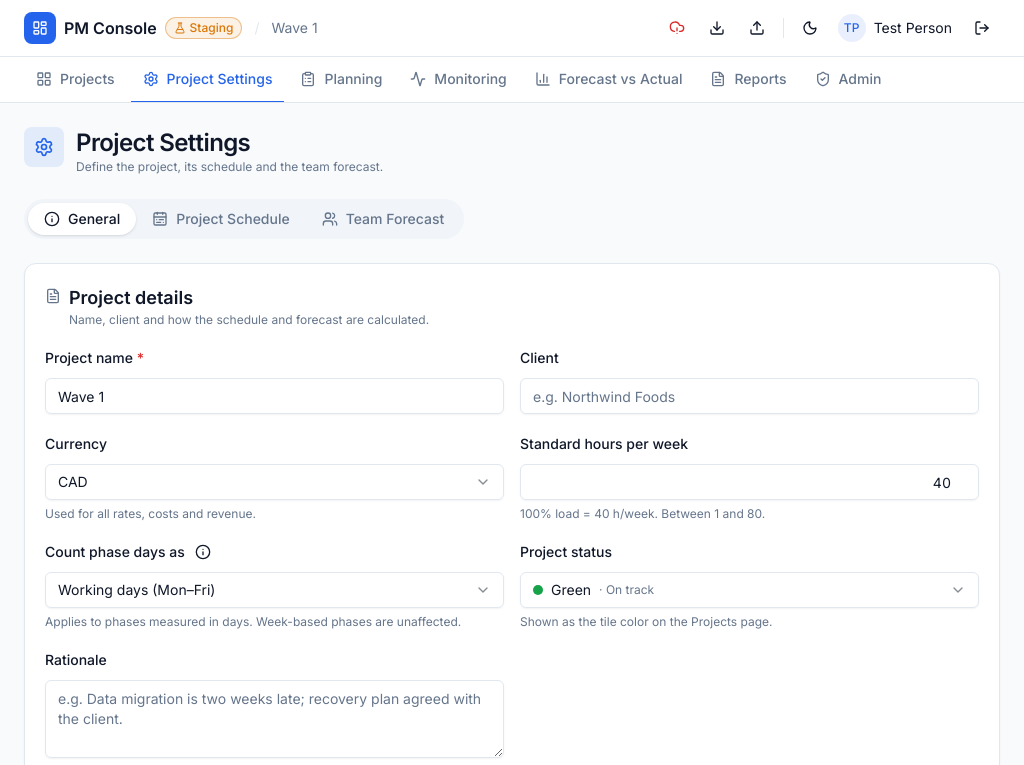
Scenario: Unsaved project details › asks before leaving, and Keep editing stays with the edits
Type "Northwind" into the field labelled "Client" at x=750, y=396, box [520,378,979,414]
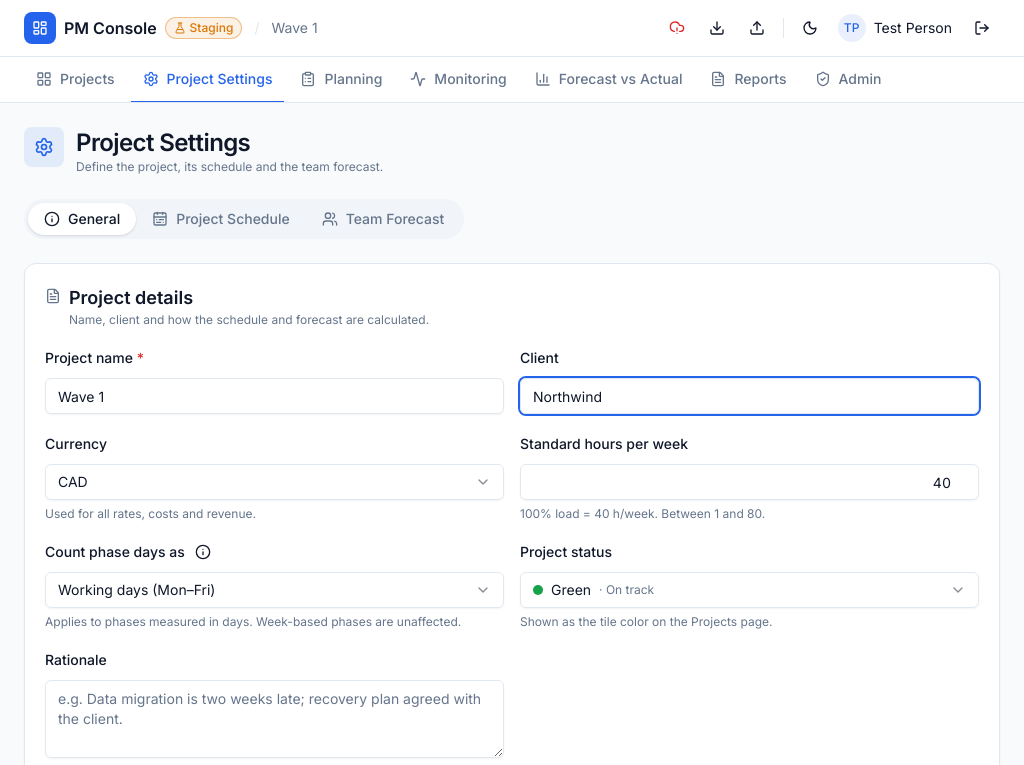
Click the link "Projects" at x=75, y=78, box [36,70,115,87]
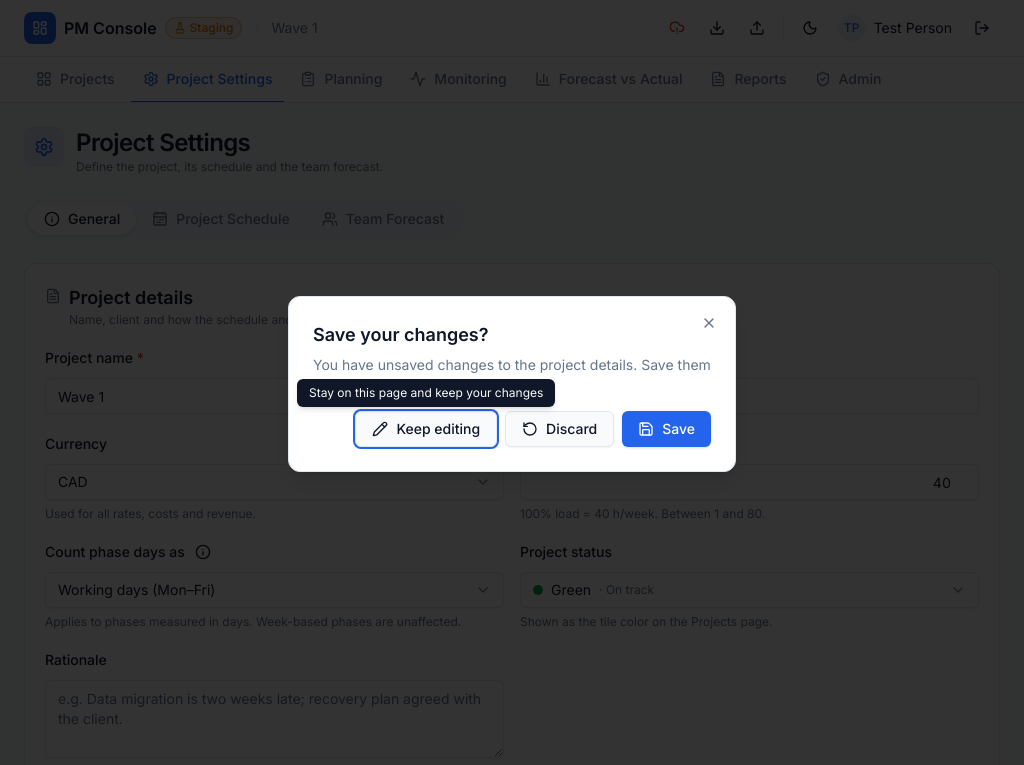
Now the dialog "Save your changes?" is shown, box [288,296,736,472]
Click the button "Keep editing" at x=426, y=429, box [355,411,497,447]
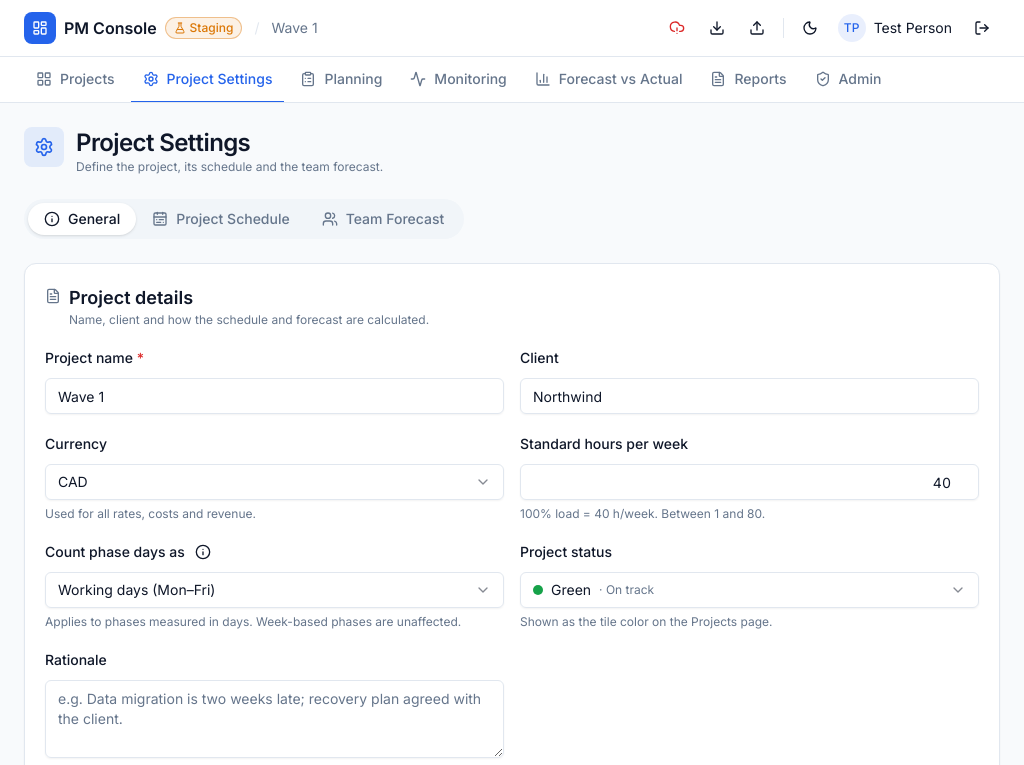
Now the dialog is gone
